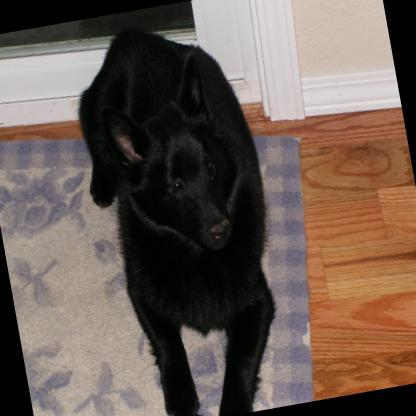schipperke: (61, 8, 299, 416)
